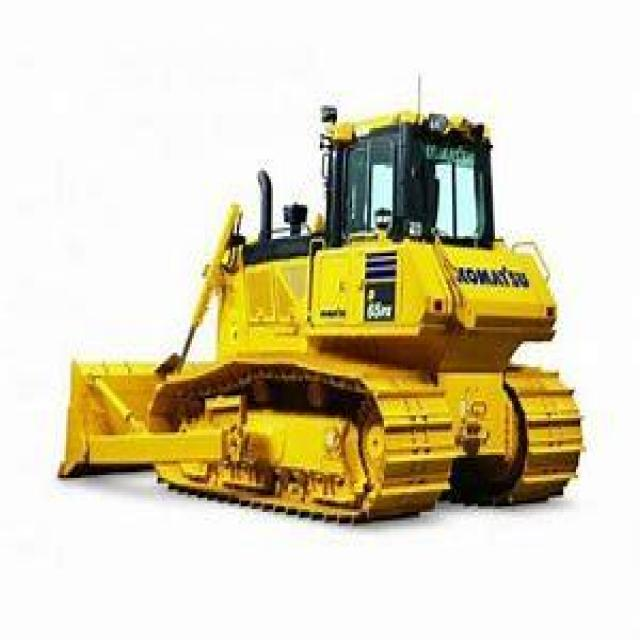Bulldozer: (58, 74, 623, 560)
